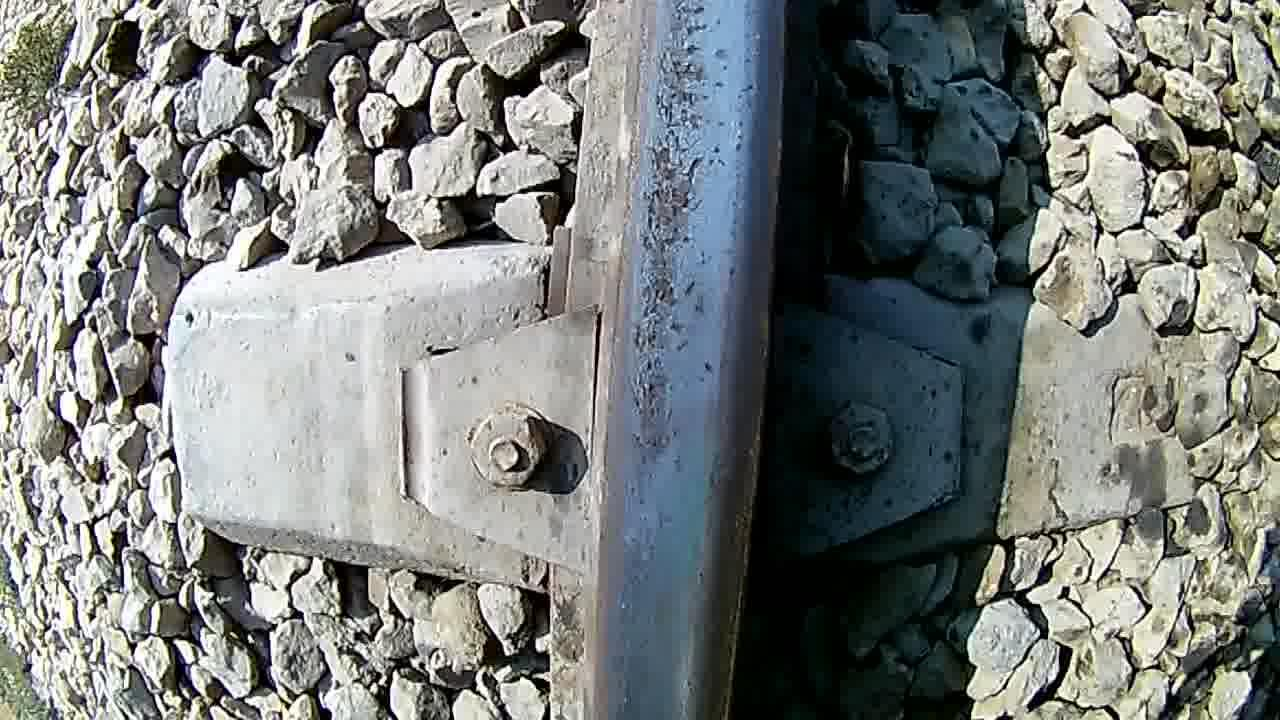crack: (600, 0, 787, 720)
